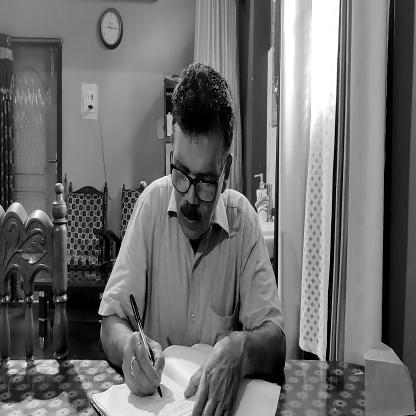Distracted: (166, 57, 230, 237)
